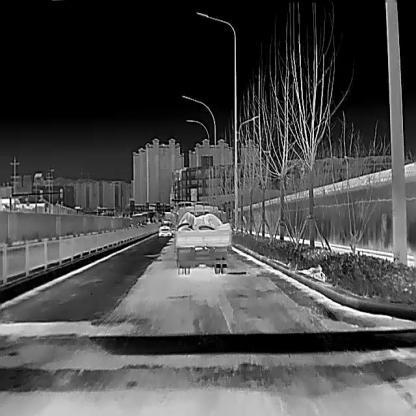car: (158, 221, 172, 236)
truck: (176, 199, 230, 275)
